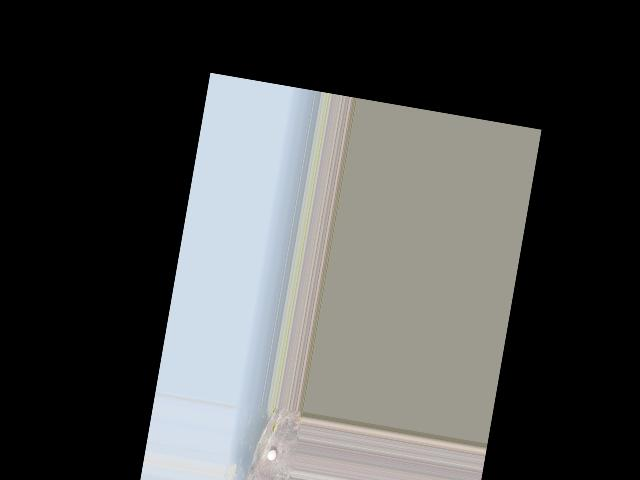egg: (266, 449, 277, 462)
